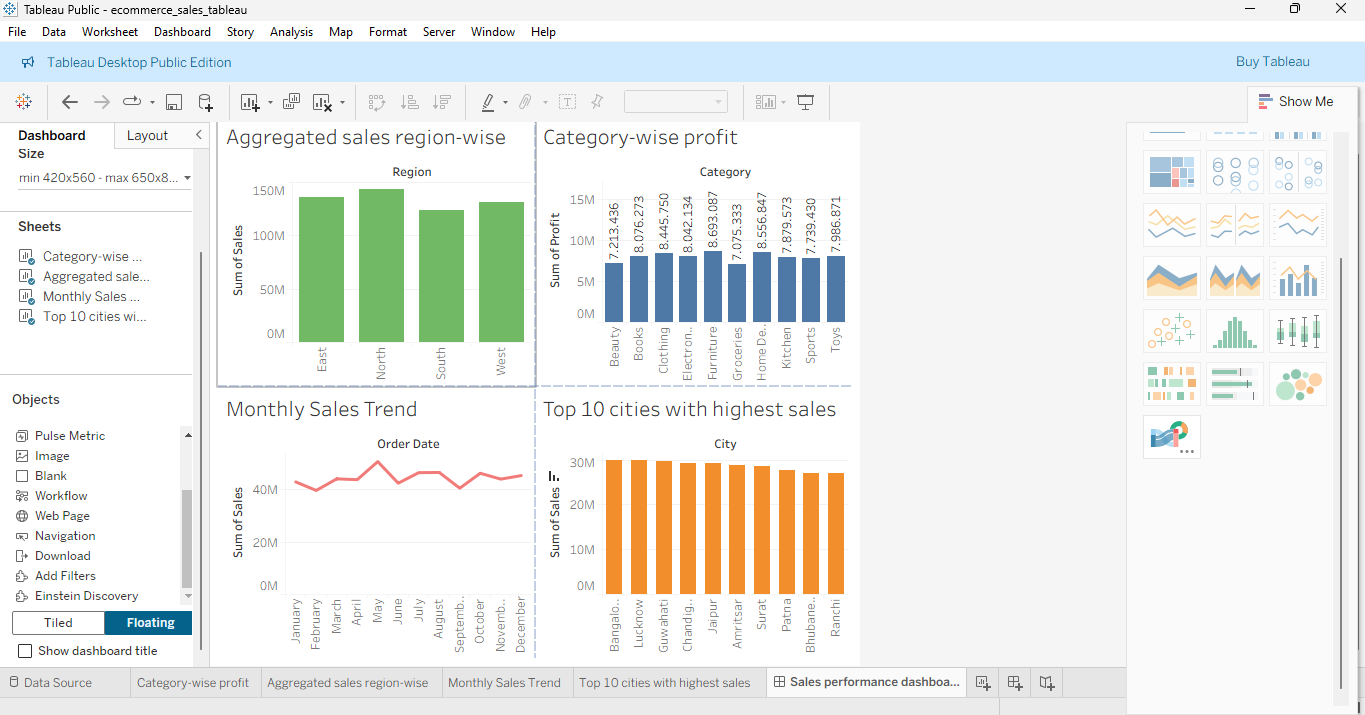

This screenshot's page, from the dashboard's own definition file:
{"tool":"tableau","page":{"name":"Sales performance dashboard","canvas":[650,860],"ordinal":0},"visuals":[{"type":"worksheet","title":"Aggregated sales region-wise","mark":"Automatic","rows":["Sales"],"cols":["Region"],"box":[8,12.3,317,417.7]},{"type":"worksheet","title":"Category-wise profit","mark":"Automatic","rows":["Profit"],"cols":["Category"],"box":[325,12.3,317,417.7]},{"type":"worksheet","title":"Monthly Sales Trend","mark":"Automatic","rows":["Sales"],"cols":["Order Date"],"box":[8,430,317,417.7]},{"type":"worksheet","title":"Top 10 cities with highest sales","mark":"Automatic","rows":["Sales"],"cols":["City"],"box":[325,430,317,417.7]}]}

Visuals, with their boxes on the page's 650x860 design canvas (x1, y1, x2, y2). These are canvas units, not pixel positions in the 1365x715 screenshot, which may show the page scaled, cropped or inside an application window:
"Aggregated sales region-wise" worksheet: select_region(8, 12, 325, 430)
"Category-wise profit" worksheet: select_region(325, 12, 642, 430)
"Monthly Sales Trend" worksheet: select_region(8, 430, 325, 848)
"Top 10 cities with highest sales" worksheet: select_region(325, 430, 642, 848)
